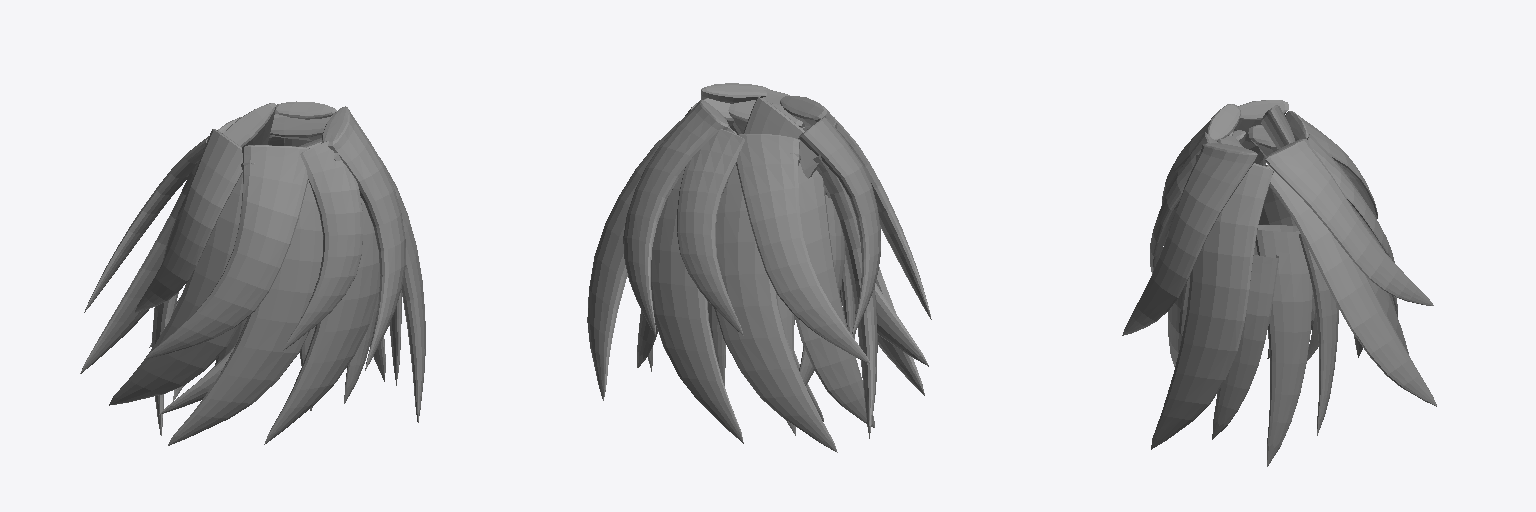
The model's file is capa.obj.
3 views of the same model, side by side, from view 1: azimuth 30°, elevation 25°; view 2: azimuth 150°, elevation 25°; view 3: azimuth 270°, elevation 25° (orthographic).
Visible parts, largest first — view 1: model_1; view 2: model_1; view 3: model_1.
Boxes of the visible parts, x1=… form: model_1: x1=80, y1=101, x2=425, y2=445; model_1: x1=587, y1=83, x2=931, y2=452; model_1: x1=1122, y1=100, x2=1436, y2=466.
Bounding box in the file's own units: 12.02 × 12.74 × 11.91.